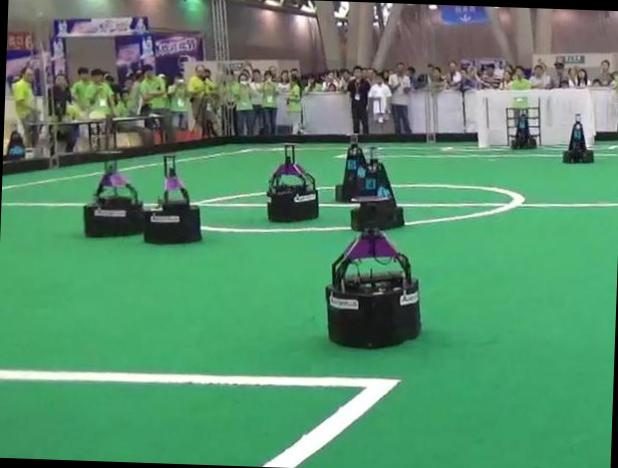goal: (476, 90, 490, 147)
robot: (325, 228, 419, 346), (83, 150, 144, 236), (143, 155, 201, 243), (349, 152, 404, 230), (266, 143, 317, 220), (334, 134, 366, 201), (505, 105, 540, 148), (563, 113, 593, 162)
